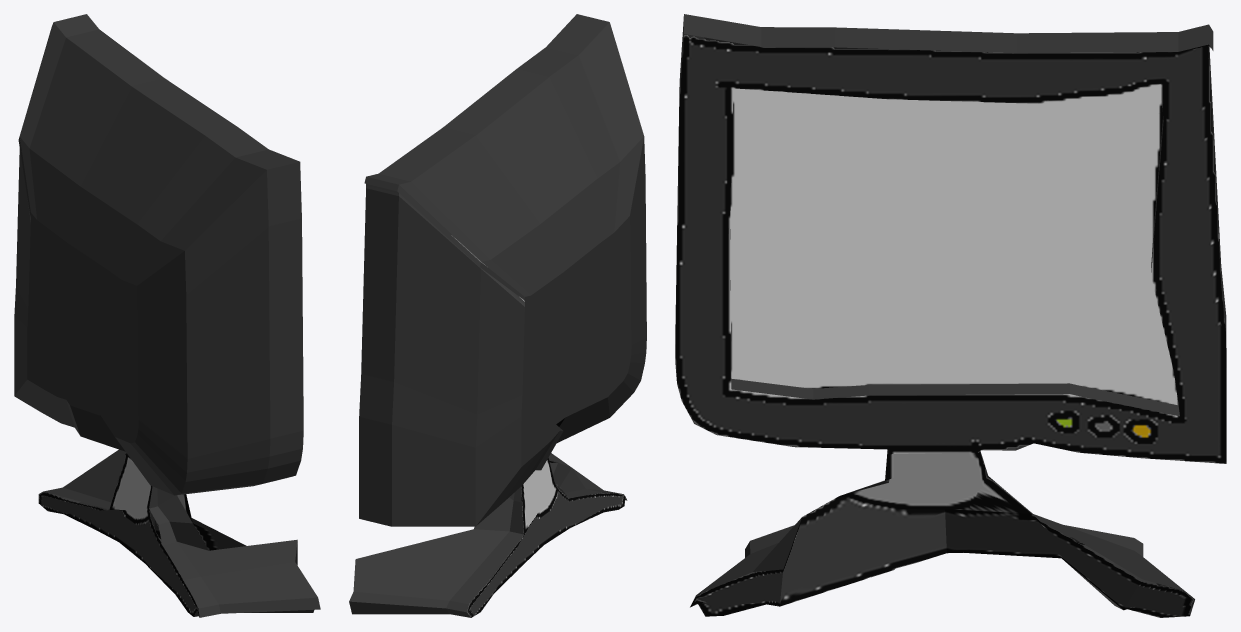
Rendered from Monitor.fbx.
The picture shows the model from 3 angles, left to right: view 1: azimuth 30°, elevation 25°; view 2: azimuth 150°, elevation 25°; view 3: azimuth 270°, elevation 25°; orthographic projection. The views are drawn at different scales.
Visible parts, largest first — view 1: Cube; view 2: Cube; view 3: Cube.
Boxes of the visible parts, box(x1,y1,x2,y2) form: Cube: box(14, 14, 320, 617); Cube: box(349, 14, 646, 617); Cube: box(675, 14, 1226, 617).
Size of the model in its own units: 63.43 by 192 by 168.
